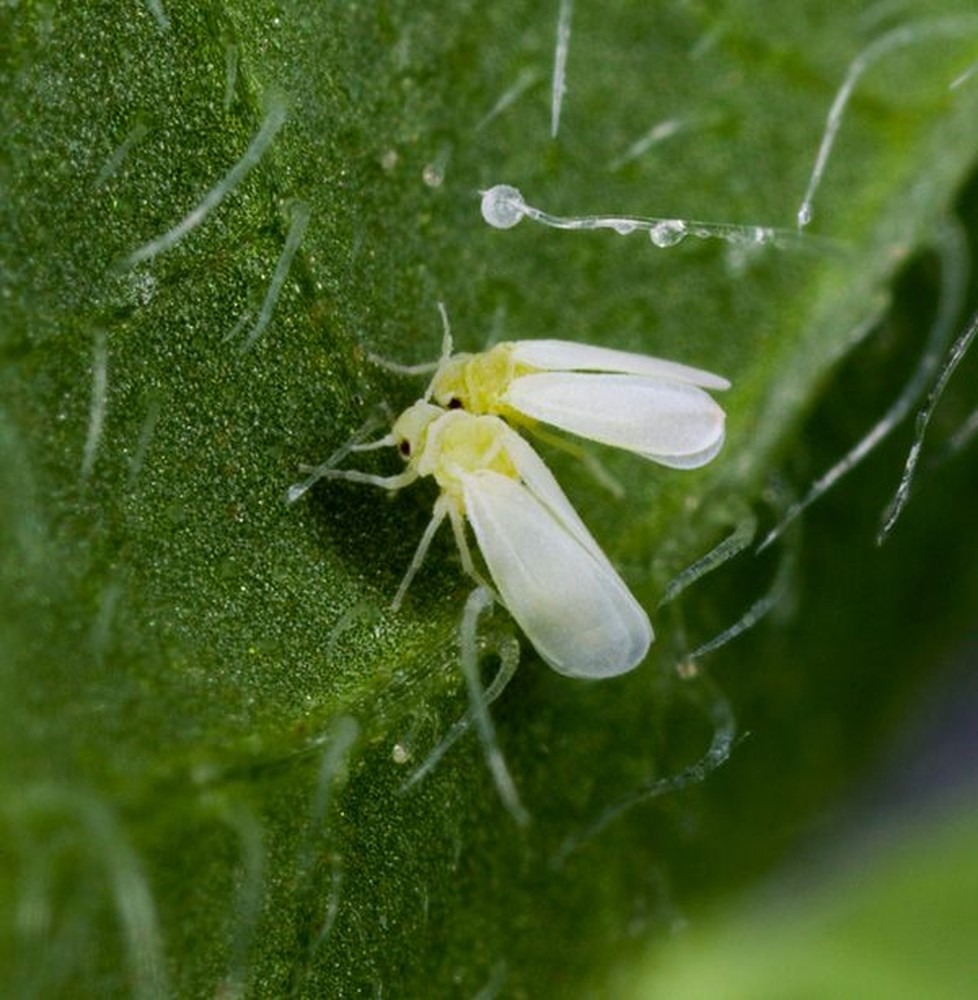Mosca Blanca: (340, 377, 664, 723), (404, 284, 747, 505)
